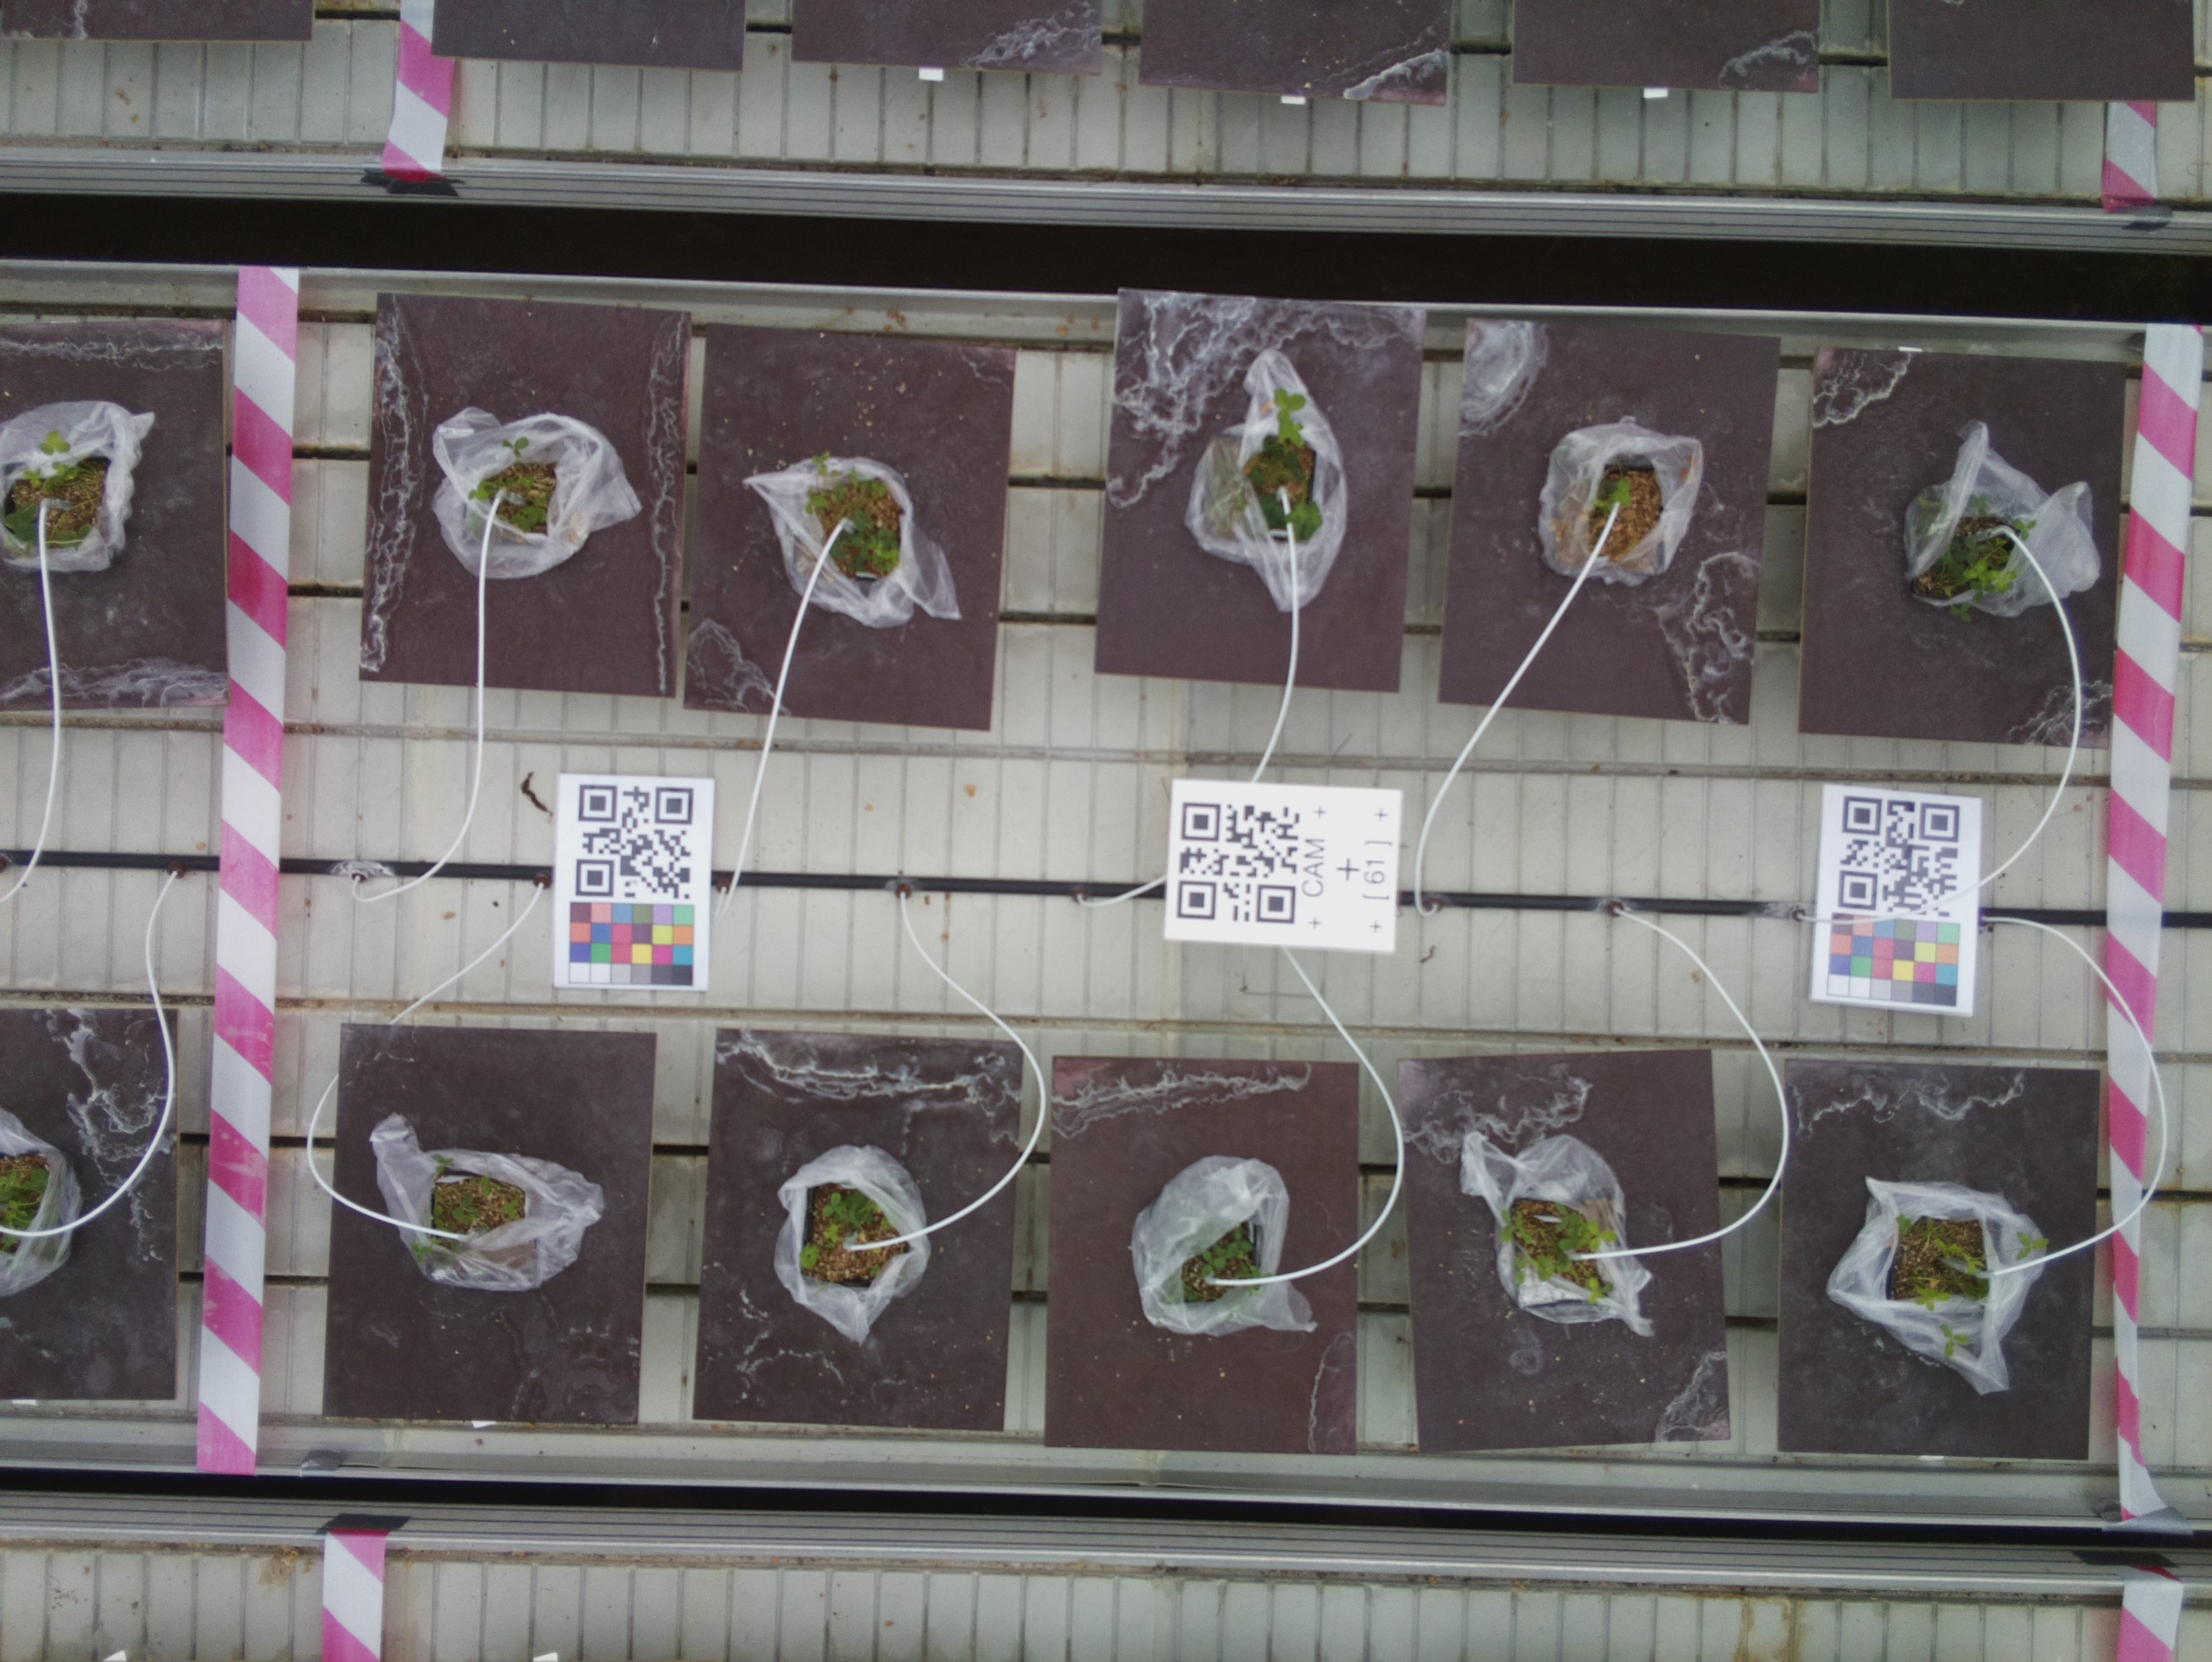POT: (1393, 1060, 1730, 1442), (688, 326, 1006, 721), (1114, 288, 1418, 698), (1049, 1053, 1355, 1456), (1816, 346, 2119, 747), (1461, 316, 1758, 726), (374, 293, 676, 693), (339, 1023, 641, 1423), (1788, 1056, 2088, 1456), (709, 1027, 1006, 1428)
QRCODE: (1168, 779, 1397, 948)
QRCOLOR: (1812, 784, 1980, 1016), (553, 772, 714, 995)
